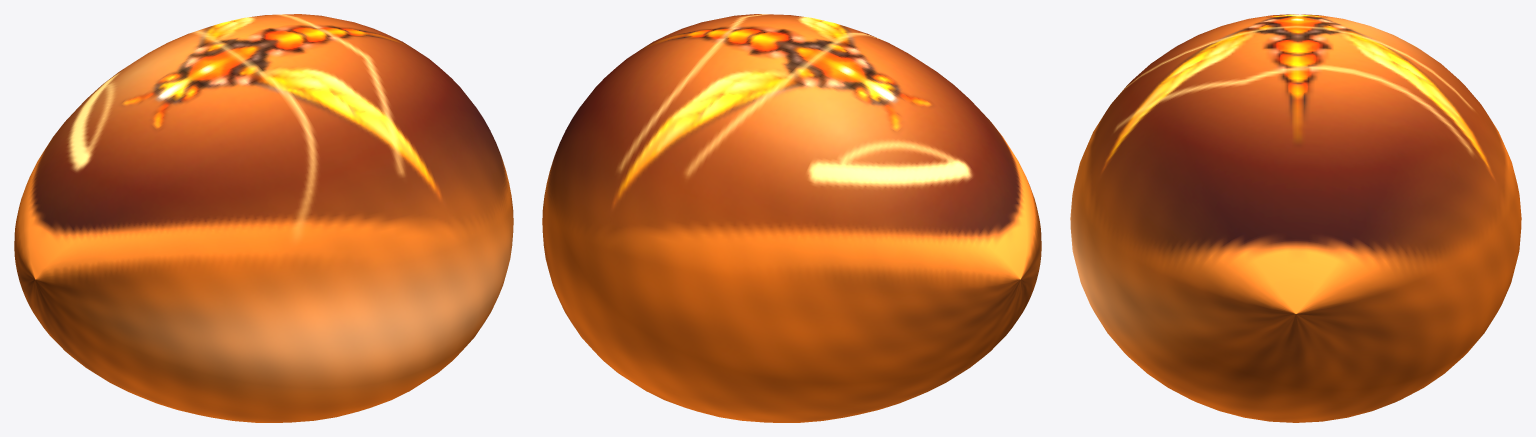
The model's file is vexar-egg-ember.glb.
3 renders of one model, left to right at view 1: azimuth 30°, elevation 25°; view 2: azimuth 150°, elevation 25°; view 3: azimuth 270°, elevation 25°, orthographic.
Parts seen in each view (by area): view 1: Vexar_Egg; view 2: Vexar_Egg; view 3: Vexar_Egg.
Part boxes in pixels (left/top/right/bottom): Vexar_Egg: left=14, top=14, right=513, bottom=422; Vexar_Egg: left=542, top=14, right=1041, bottom=422; Vexar_Egg: left=1070, top=14, right=1521, bottom=422.
Bounding box in the file's own units: 1.02 × 0.7859 × 0.9138.
1 material, 1 textured.
